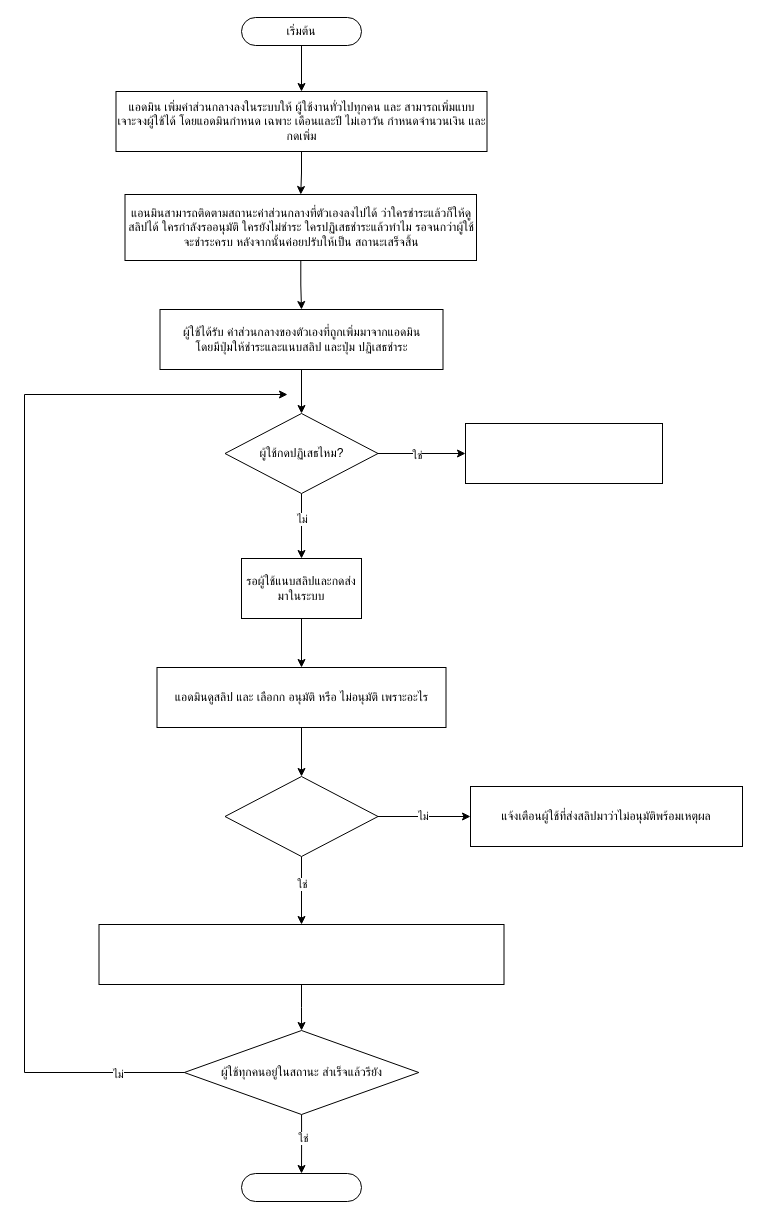
The diagram is 760 pixels wide and 1219 high, and some of its shapes have lost their labels. Here are the shapes that lost their labels. From the top down, the box of each, then its label:
(464, 422, 662, 484): อัพเดทสถานะว่าผู้ใช้คนนี้ปฏิเสธและดูรายละเอียดได้ว่าเพราะอะไร
(224, 776, 378, 856): แอดมินอนุมัติไหม
(98, 924, 504, 984): ธุรกรรมเสร็จสิ้น สถานะทั้งผู้ใช้และแอดมินเป็น สำเร็จแล้ว
(240, 1172, 362, 1202): จบ
